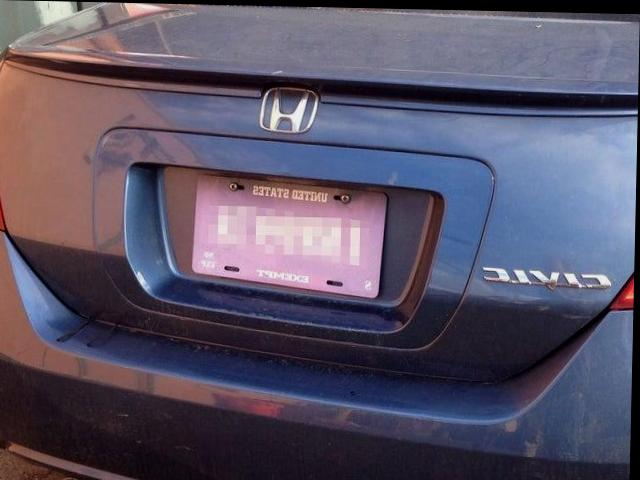License_Plate: (180, 167, 397, 305)
